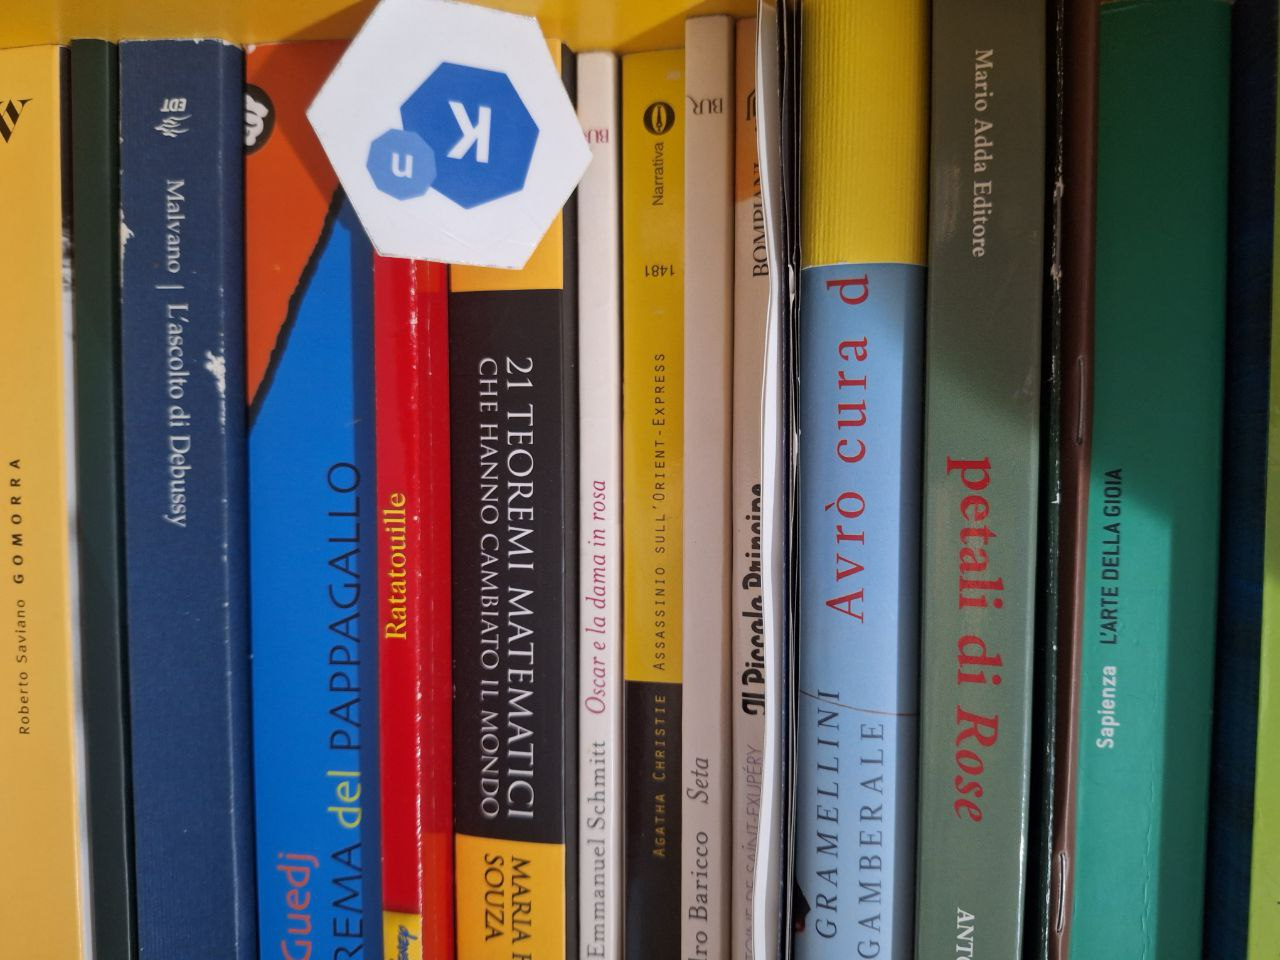knative: (363, 59, 538, 213)
